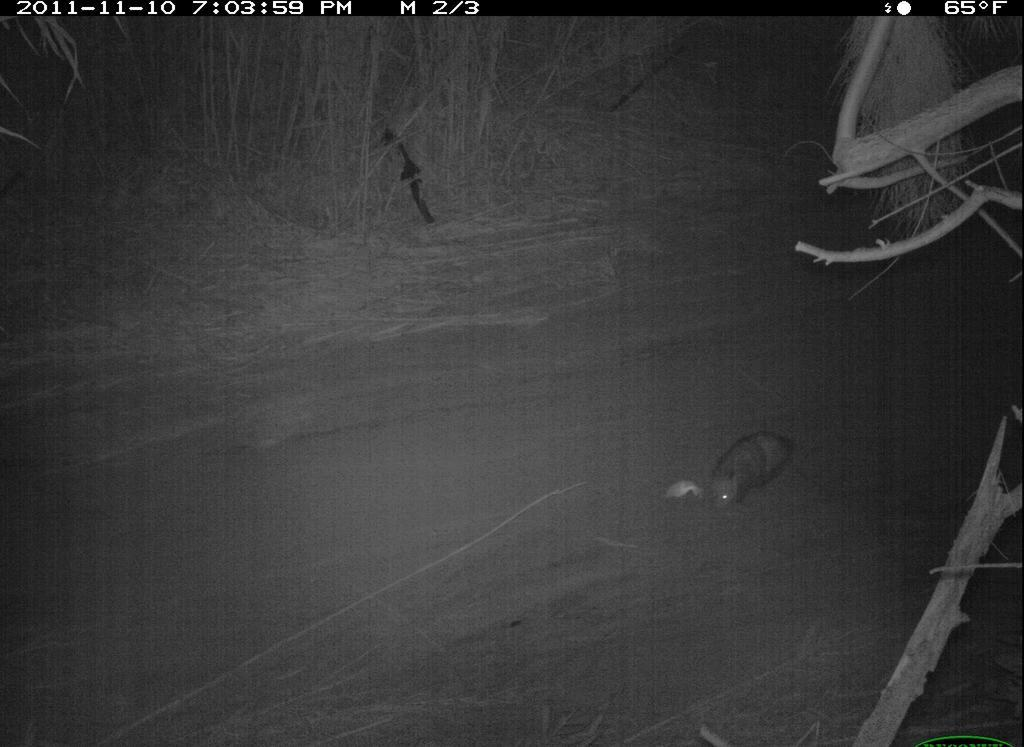opossum: (707, 420, 815, 523)
